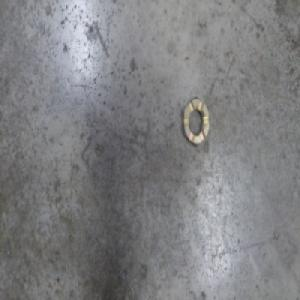Nut: (182, 96, 210, 150)
